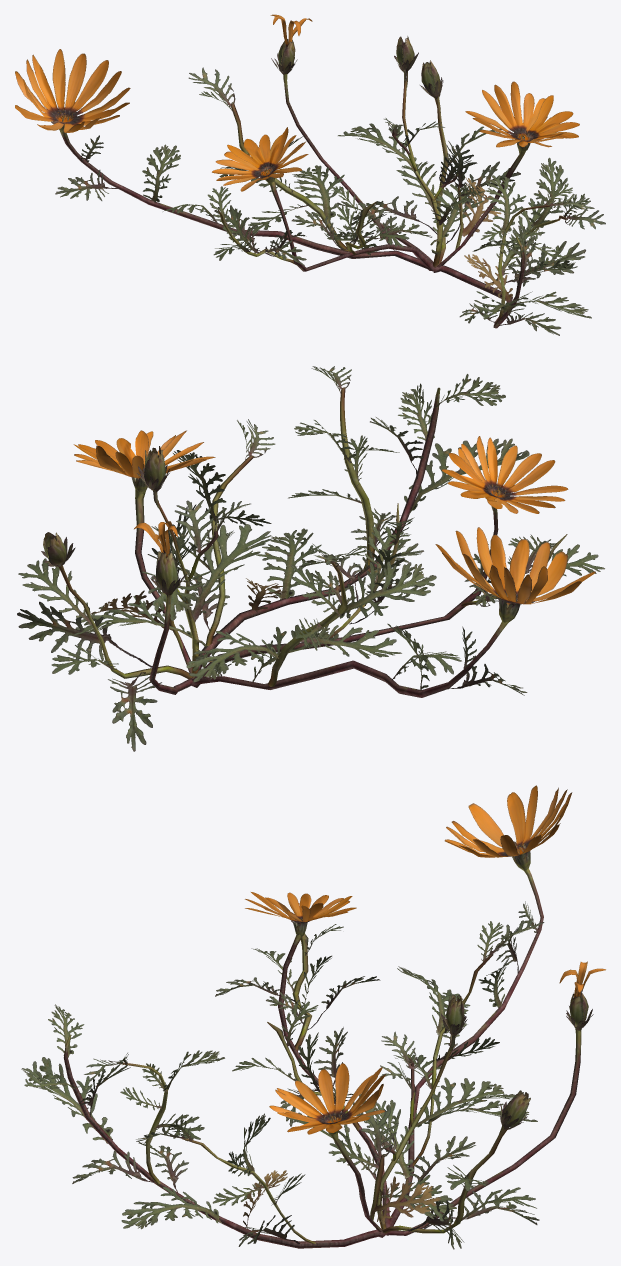
File: flower_ursinia_05.glb
The picture shows the model from 3 angles, top to bottom: view 1: azimuth 30°, elevation 25°; view 2: azimuth 150°, elevation 25°; view 3: azimuth 270°, elevation 25°; orthographic projection. The views are drawn at different scales.
Visible parts, largest first — view 1: flower_ursinia; view 2: flower_ursinia; view 3: flower_ursinia.
Boxes of the visible parts, box(x1,y1,x2,y2) form: flower_ursinia: box(15, 14, 605, 335); flower_ursinia: box(17, 366, 604, 751); flower_ursinia: box(21, 785, 605, 1249).
Bounding box in the file's own units: 0.2772 × 0.1313 × 0.2598.
1 material, 1 textured.
